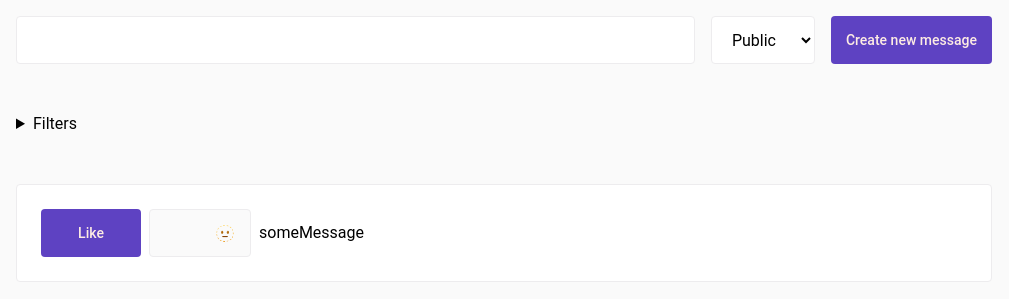
Test case: App › Like a message
The width and height of the screenshot is (1009, 299).
Expected: the text "someMessage" is shown, [259,223,364,242]
Expected: the text "👍" is not shown
Step 1. Click the button with aria-label "like-message" → [91, 233], box [41,209,141,257]
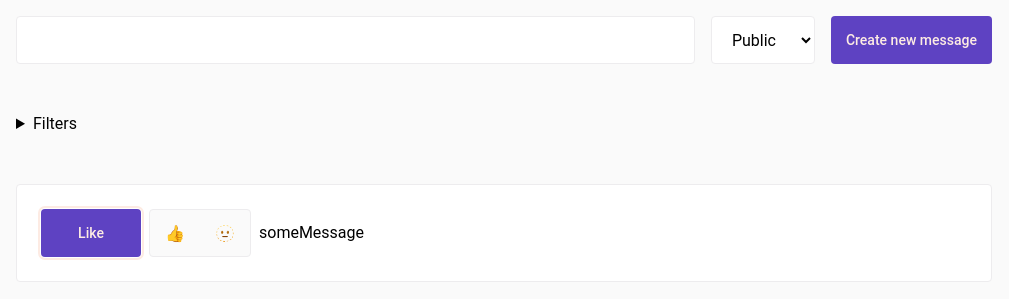
Result: the text "👍" is shown at [165,224,185,243]
